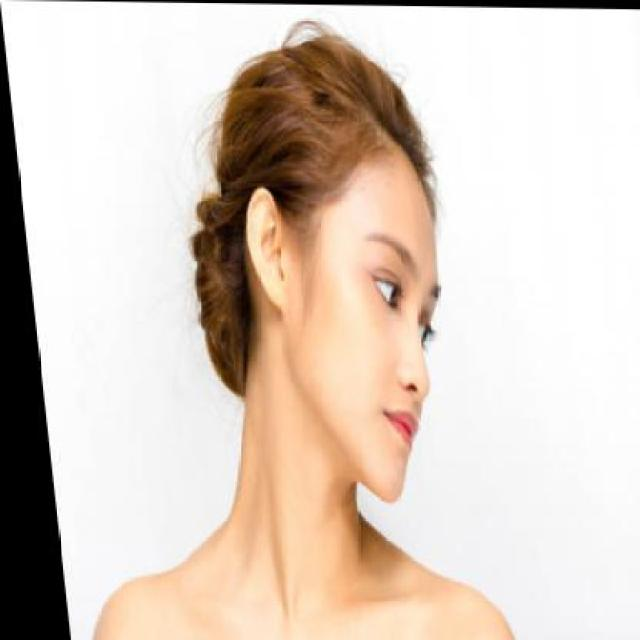Healthy: (248, 394, 350, 640)
